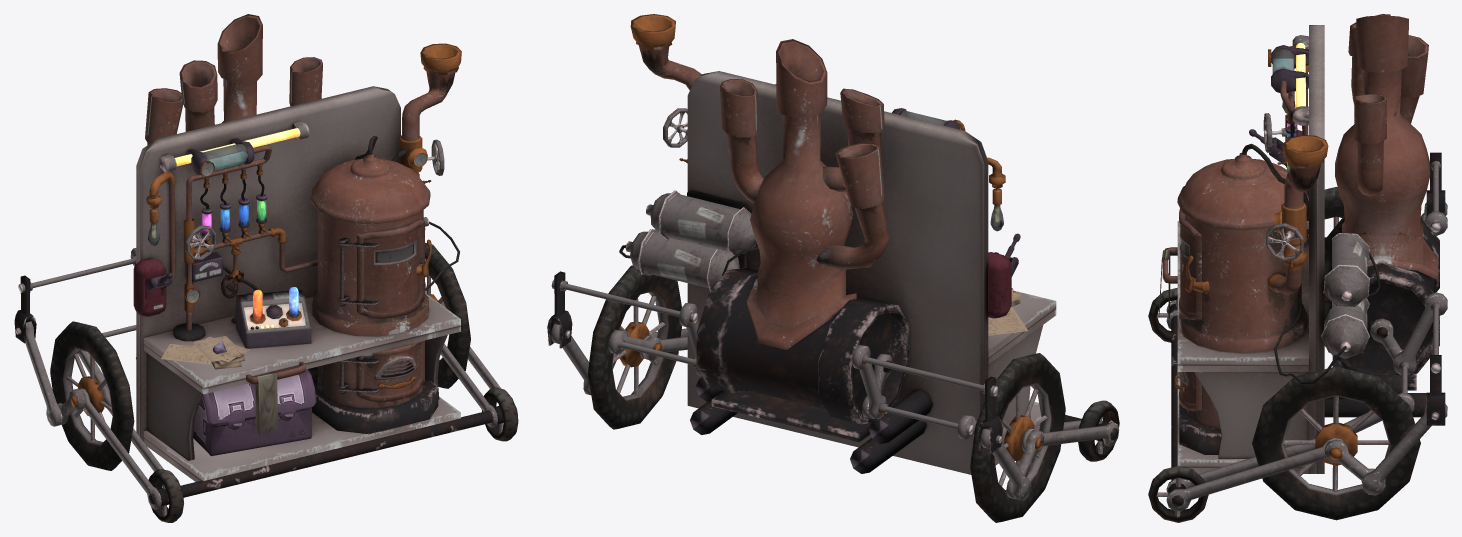
The picture shows the model from 3 angles, left to right: view 1: azimuth 30°, elevation 25°; view 2: azimuth 150°, elevation 25°; view 3: azimuth 270°, elevation 25°; orthographic projection. The views are drawn at different scales.
Parts seen in each view (by area): view 1: pCube3, polySurface1, pCube2, pTorus3 (×2), pCube8, polySurface2, pCube1, group2_pCylinder61, pCylinder12, pCube25, pCube9, pCube5 (+23 smaller); view 2: pCube3, pCylinder12, pCylinder11, pTorus3 (×2), pCylinder16, pCylinder84, pCylinder85, pCylinder14, pCube31, pCylinder4, pCylinder15, pCube15 (×2) (+16 smaller); view 3: polySurface1, pCylinder12, pTorus3 (×2), pCylinder11, pCube3, pCube32, pCube2, pCylinder4, pCylinder14, pCylinder84, pCylinder65, pTorus1 (×2) (+27 smaller).
Part boxes in pixels (x1,y1,x2,y2): pCube3: (136,86,400,441); polySurface1: (311,153,430,408); pCube2: (143,293,460,394); pTorus3 (×2): (50,242,470,470); pCube8: (193,369,316,456); polySurface2: (357,219,424,318); pCube1: (143,397,460,481); group2_pCylinder61: (149,406,503,506); pCylinder12: (217,14,262,122); pCube25: (147,353,203,460); pCube9: (236,287,311,348); pCube5: (312,377,438,434); pCube3: (687,71,988,474); pCylinder12: (747,39,856,349); pCylinder11: (696,267,909,424); pTorus3 (×2): (588,265,1065,522); pCylinder16: (816,143,889,269); pCylinder84: (646,190,756,255); pCylinder85: (625,229,739,291); pCylinder14: (720,79,763,202); pCube31: (711,390,897,442); pCylinder4: (630,14,701,89); pCylinder15: (822,88,884,191); pCube15 (×2): (547,271,1002,453); polySurface1: (1177,152,1308,429); pCylinder12: (1335,15,1438,279); pTorus3 (×2): (1252,187,1420,520); pCylinder11: (1324,215,1439,375); pCube3: (1309,25,1324,473); pCube32: (1194,372,1308,458); pCube2: (1177,221,1308,371); pCylinder4: (1268,135,1328,294); pCylinder14: (1354,94,1386,196); pCylinder84: (1323,233,1369,306); pCylinder65: (1166,437,1346,511); pTorus1 (×2): (1148,287,1208,522).
Size of the model in its own units: 0.2664 by 0.2515 by 0.1597.
2 materials, 2 textured.
